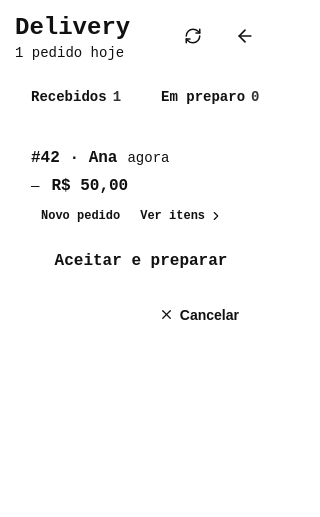
it: DeliveryModulo, itens do pedido › falha ao carregar os itens avisa em vez de dizer que o pedido não tem itens
The width and height of the screenshot is (320, 517).
Click the button "#42 · Ana agora — R$ 50,00 Novo pedido Ver itens". click: [141, 188]
box: [31,149,251,227]
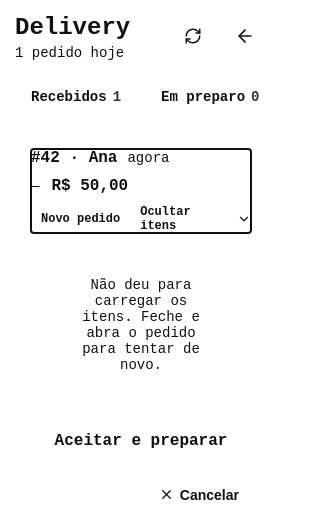
Now the message shows "Não deu para carregar os itens", box [82,277,200,373]
